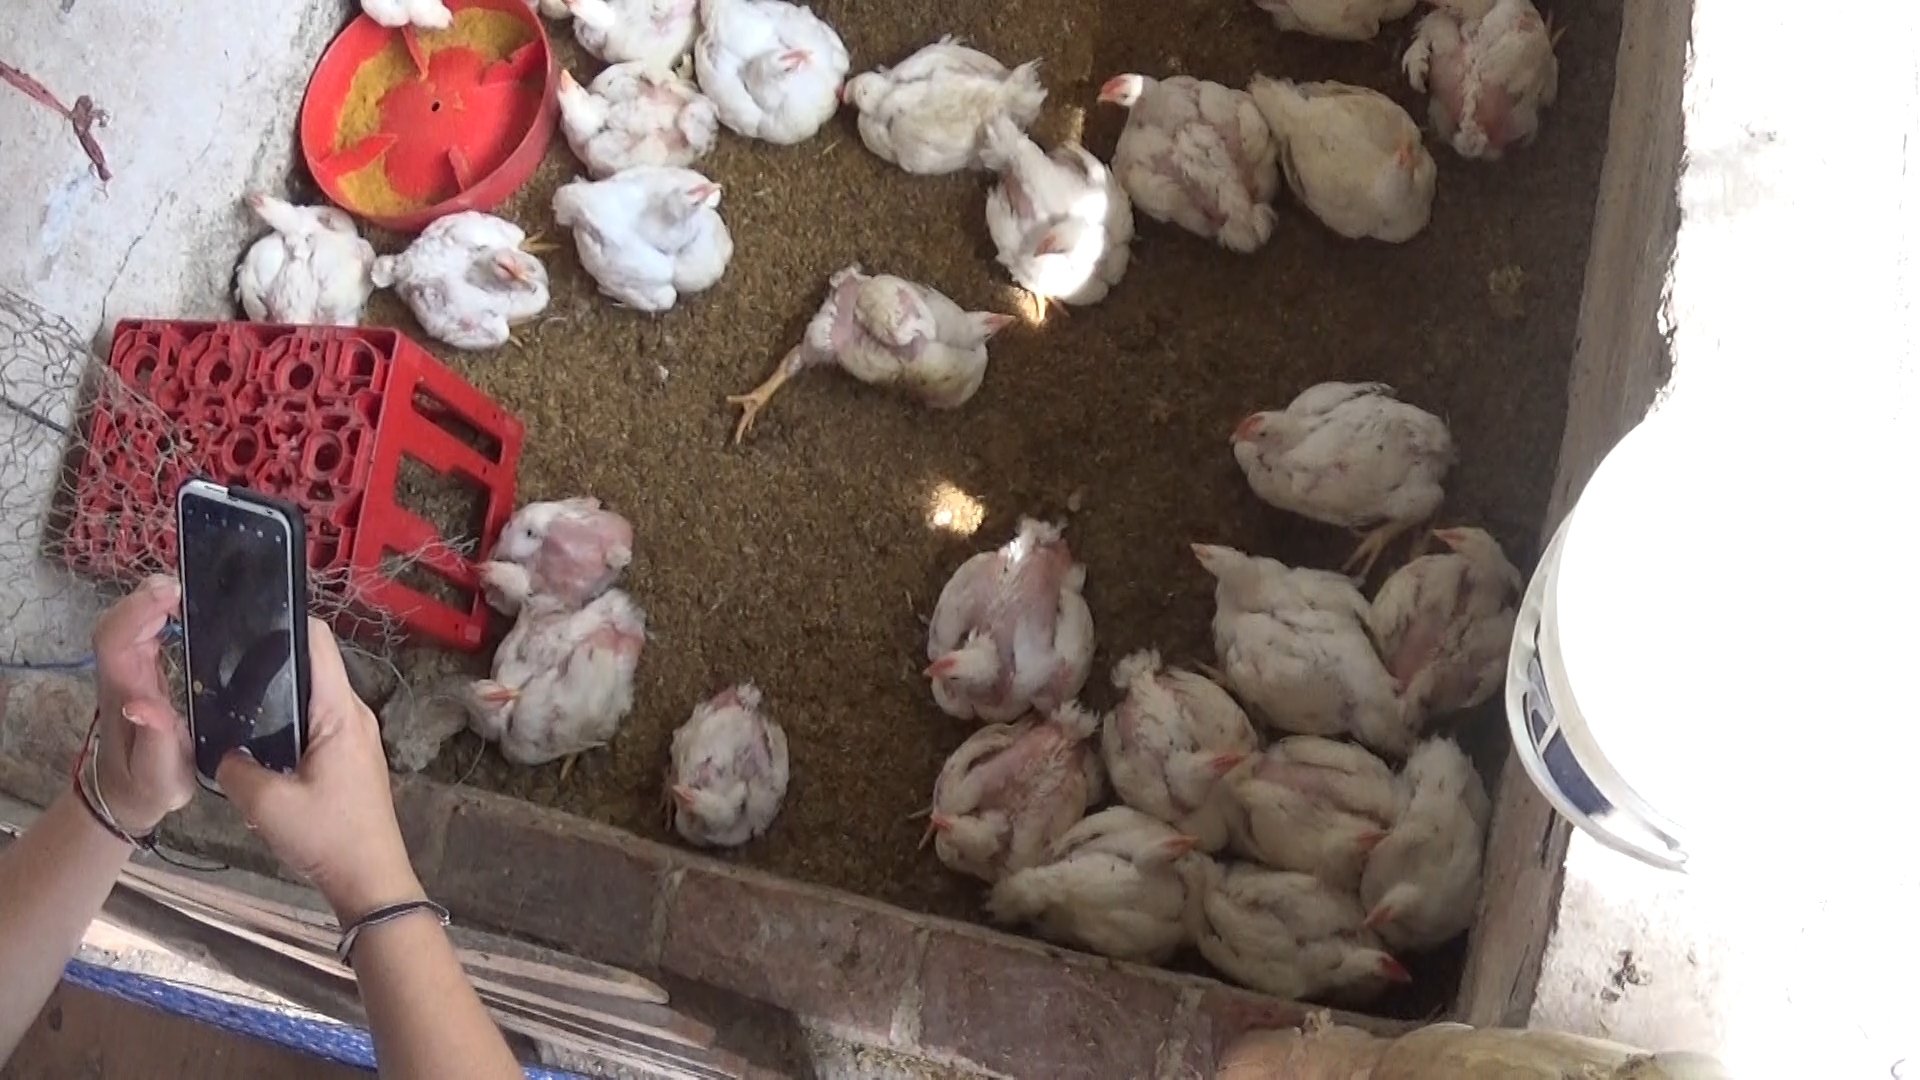Pollos: (1174, 518, 1419, 742), (456, 578, 665, 775), (897, 691, 1098, 887), (911, 516, 1098, 725), (1188, 845, 1420, 1014), (1244, 67, 1444, 255), (1208, 375, 1439, 535), (982, 810, 1218, 967), (785, 264, 1030, 410), (832, 37, 1058, 186), (1087, 647, 1255, 844), (1096, 61, 1267, 251), (1360, 728, 1494, 953), (976, 128, 1139, 309), (564, 162, 744, 322), (1382, 502, 1516, 712), (662, 667, 804, 857), (1218, 717, 1383, 880), (376, 206, 556, 353), (1410, 0, 1567, 166), (698, 0, 855, 149), (454, 495, 644, 617), (220, 179, 376, 326), (553, 53, 717, 179), (556, 0, 702, 58)
